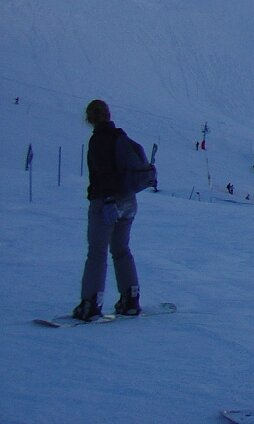person: (71, 99, 158, 321)
